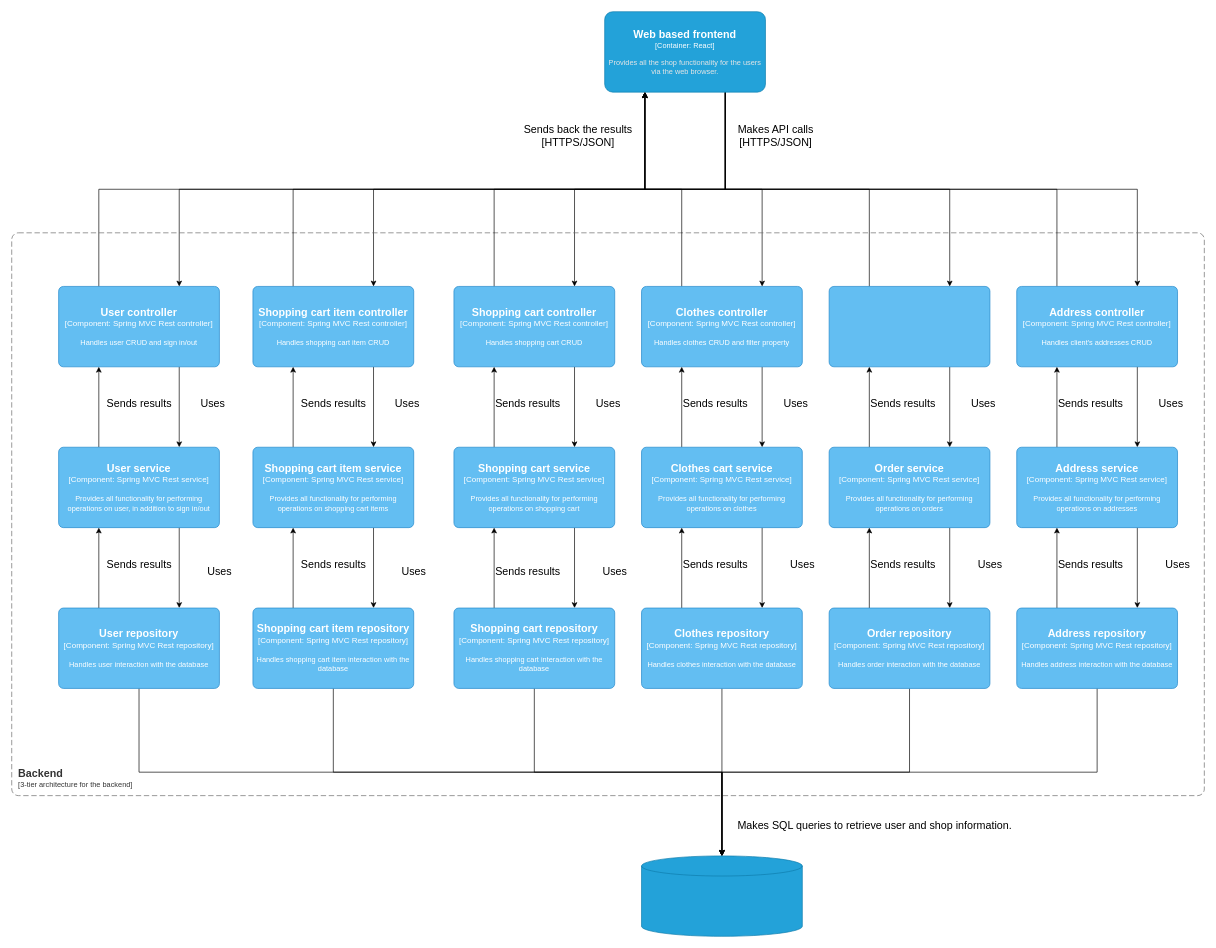
This 1216x948 diagram has some shape labels left out. The box of each missing label's shape, as (x1, y1, x2, y2) in pixels:
Database [Container: MySQL] Database that will store the user and shop data.: (641, 855, 802, 936)
Order controller [Component: Spring MVC Rest controller] Handles CRU for orders: (828, 286, 990, 367)
